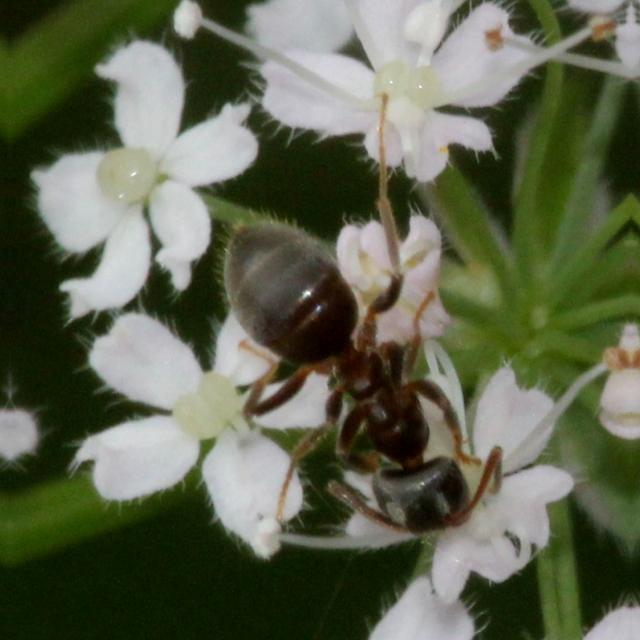Lasius: (218, 214, 526, 550)
